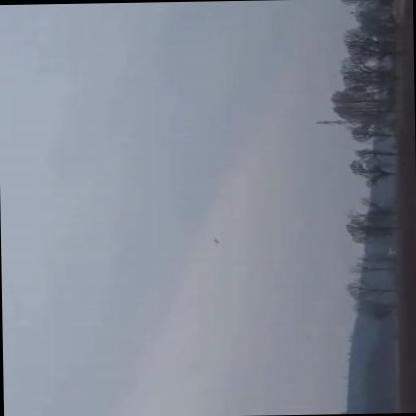plane: (207, 231, 225, 246)
